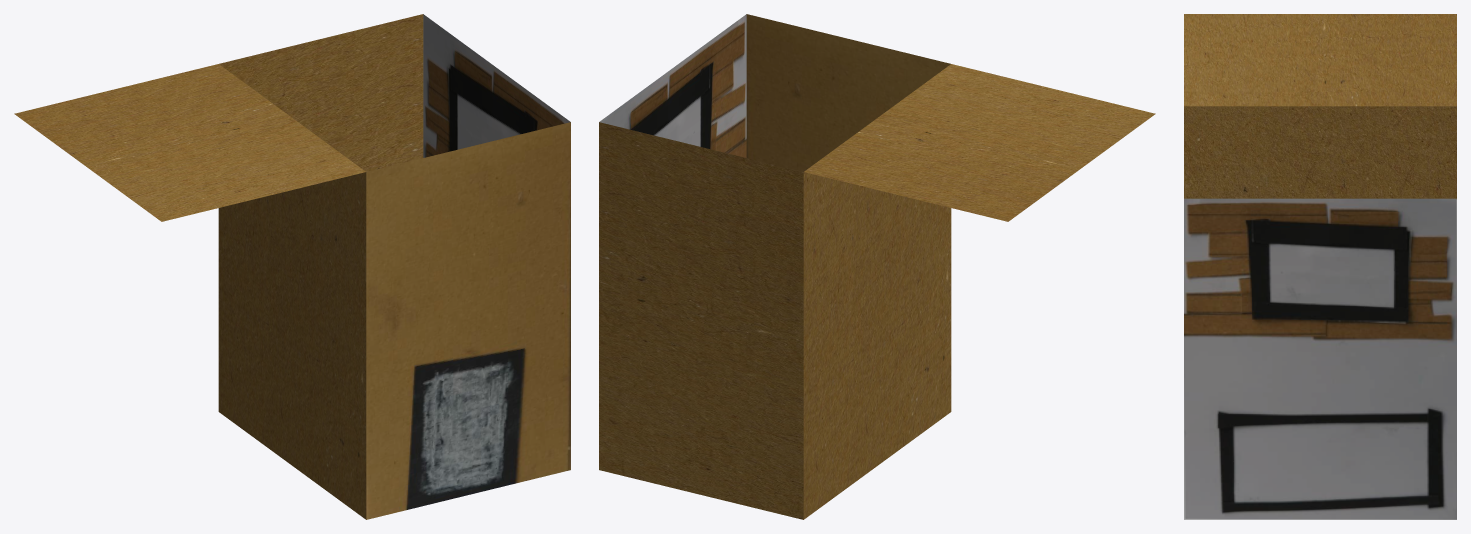
Rendered from cha.gltf.
3 renders of one model, left to right at view 1: azimuth 30°, elevation 25°; view 2: azimuth 150°, elevation 25°; view 3: azimuth 270°, elevation 25°, orthographic. The views are drawn at different scales.
Visible parts, largest first — view 1: Cube, Cube.003, Cube.002; view 2: Cube, Cube.003, Cube.002; view 3: Cube, Cube.002, Cube.003.
Boxes of the visible parts, x1,y1,x2,y2 form: Cube: [218, 122, 570, 519]; Cube.003: [219, 14, 570, 171]; Cube.002: [14, 64, 365, 221]; Cube: [599, 122, 951, 519]; Cube.003: [599, 14, 950, 171]; Cube.002: [804, 64, 1155, 221]; Cube: [1184, 198, 1456, 519]; Cube.002: [1184, 14, 1456, 106]; Cube.003: [1184, 106, 1456, 198].
Size of the model in its own units: 16 by 13 by 10.
1 material, 1 textured.
